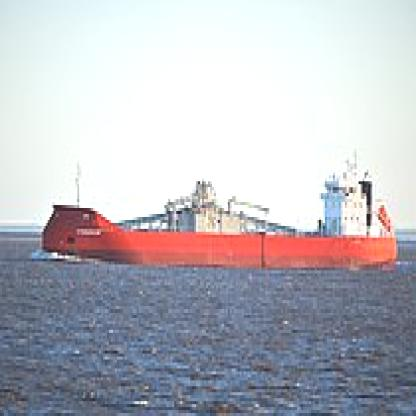Tanker: (36, 128, 404, 285)
